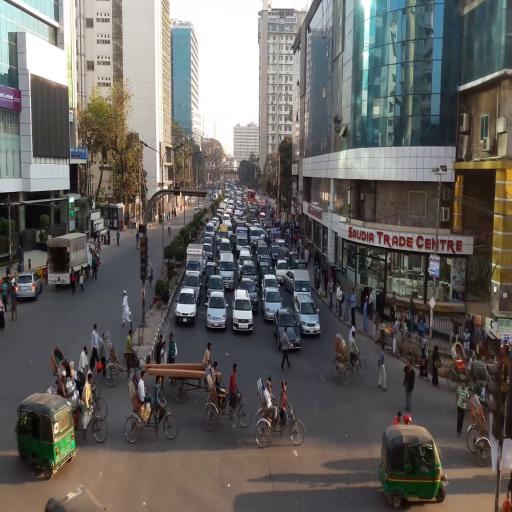ambulance: (270, 228, 283, 248)
army vehicle: (47, 233, 93, 288)
bus: (248, 202, 259, 221), (258, 199, 267, 218), (248, 189, 256, 203), (236, 191, 243, 202)
car: (274, 307, 302, 354), (205, 292, 230, 331), (176, 288, 198, 327), (264, 287, 285, 323), (182, 273, 202, 304), (263, 274, 281, 299), (276, 260, 290, 284), (204, 243, 214, 261), (204, 237, 213, 245), (203, 233, 214, 239)
human hauler: (220, 224, 229, 246)
minivan: (239, 277, 259, 311), (240, 261, 259, 290), (238, 249, 253, 282), (219, 239, 234, 259), (205, 223, 216, 240), (212, 218, 221, 228), (223, 214, 231, 225)
pickup: (186, 244, 203, 278), (237, 227, 248, 258), (220, 203, 226, 212)
rickshaw: (142, 344, 224, 403), (256, 376, 305, 452), (125, 372, 179, 439), (205, 363, 253, 432), (52, 346, 103, 405), (103, 329, 149, 389), (467, 394, 494, 469), (333, 332, 367, 384), (448, 343, 477, 394), (158, 214, 164, 229)
suv: (294, 294, 321, 337), (232, 290, 254, 334), (16, 272, 43, 303), (195, 208, 201, 216)
three wheelers (CNG): (378, 425, 451, 508), (14, 394, 80, 481), (260, 262, 271, 290), (290, 251, 300, 270), (279, 248, 290, 263), (296, 259, 309, 271)
truck: (236, 221, 246, 227)
van: (219, 253, 237, 294), (219, 253, 237, 292), (294, 269, 312, 305), (257, 241, 272, 268), (250, 227, 261, 247), (271, 245, 281, 265), (235, 210, 241, 220), (217, 209, 224, 217), (227, 208, 233, 217)
